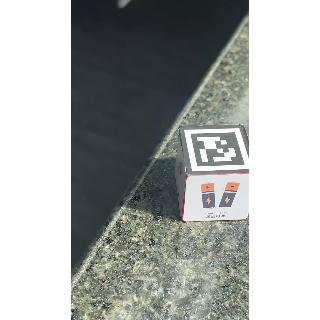Used_Battery: (189, 177, 251, 222)
